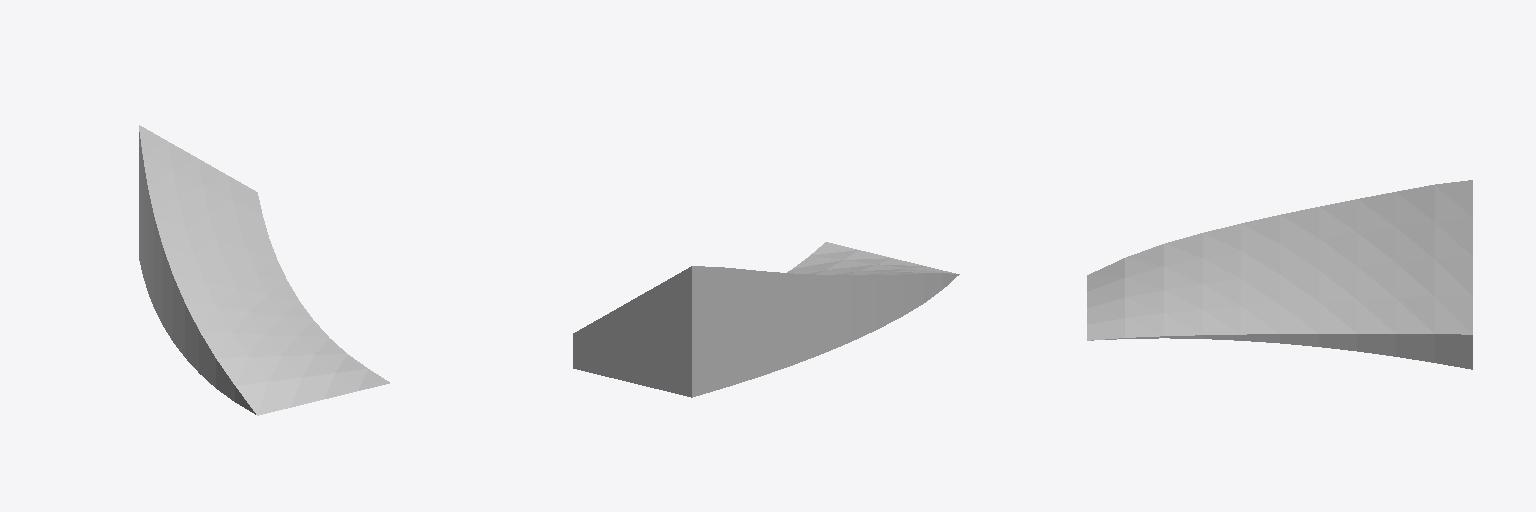
File: curved_ramp_V5_L.obj
3 views of the same model, side by side, from view 1: azimuth 30°, elevation 25°; view 2: azimuth 150°, elevation 25°; view 3: azimuth 270°, elevation 25° (orthographic).
Visible parts, largest first — view 1: Cube.001; view 2: Cube.001; view 3: Cube.001.
Part boxes in pixels (bbox=[...]): Cube.001: bbox=[139, 125, 389, 415]; Cube.001: bbox=[573, 242, 959, 397]; Cube.001: bbox=[1087, 180, 1472, 369].
Size of the model in its own units: 1.17 by 0.7535 by 2.